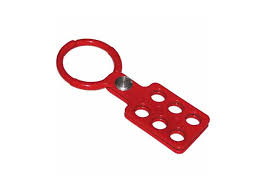hasp: (55, 38, 212, 158)
